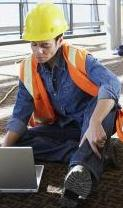boots: (58, 164, 93, 208), (0, 121, 18, 146)
hard-hat: (21, 2, 68, 42)
vest: (17, 46, 113, 144)
